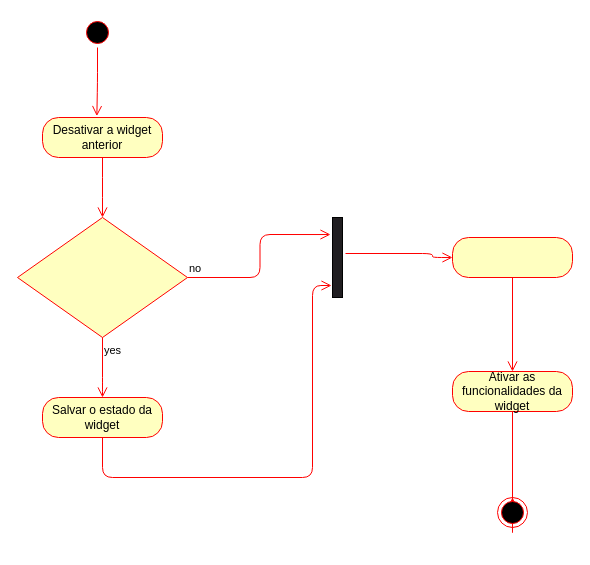
Image size: 590x565. Some labels were removed from this diagram. Each missing label, with the centre of its shape:
Deve salvar algum dado da widget anterior?: (x=102, y=277)
Renderizar a próxima widget: (x=512, y=257)
